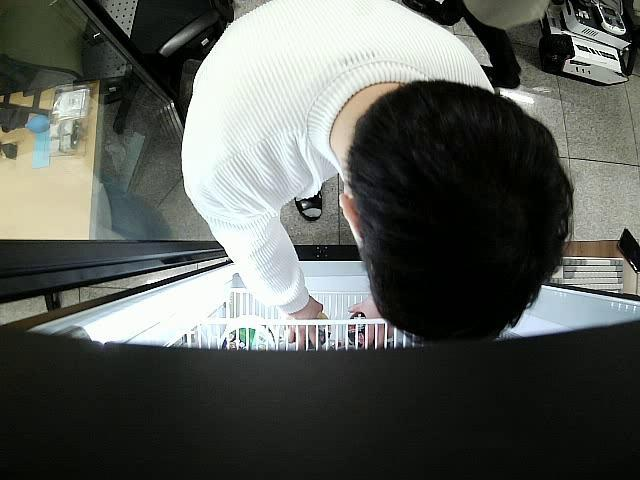08_buldak_S: (294, 308, 330, 347), (347, 311, 384, 346)
